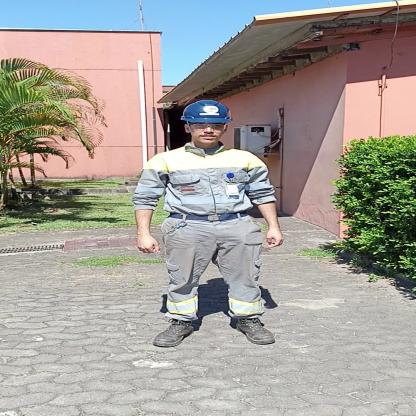Capacete: (181, 98, 228, 122)
